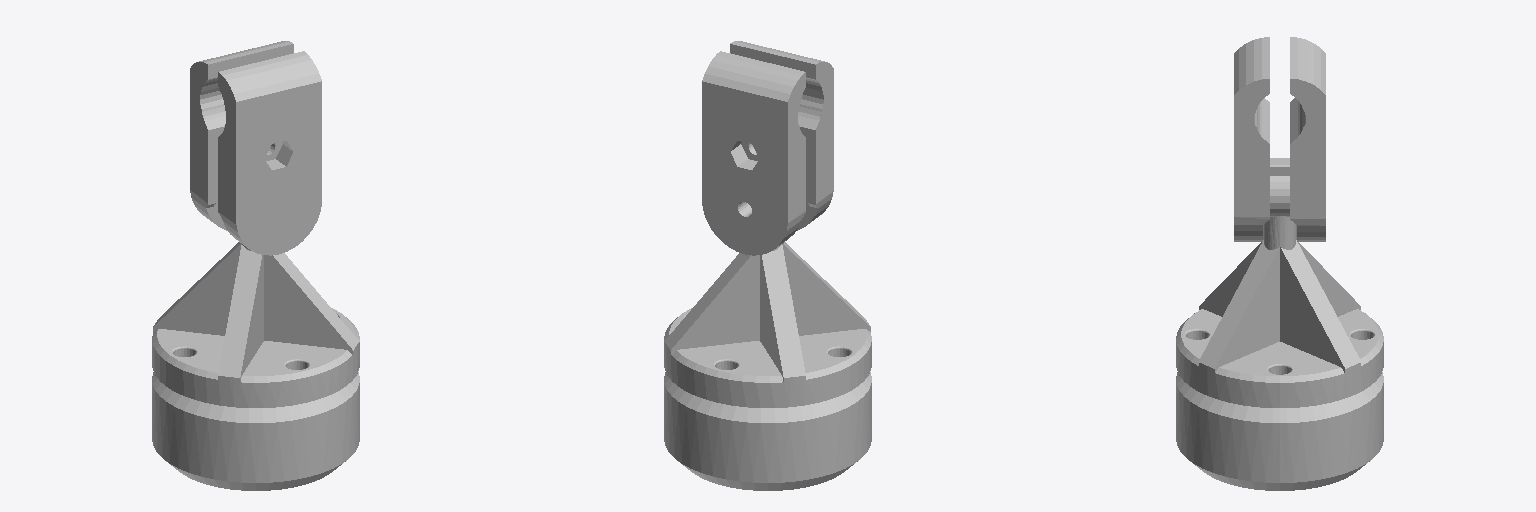
The model's file is jiajv.obj.
The picture shows the model from 3 angles: view 1: azimuth 30°, elevation 25°; view 2: azimuth 150°, elevation 25°; view 3: azimuth 270°, elevation 25°; orthographic projection.
Visible parts, largest first — view 1: Jiajv; view 2: Jiajv; view 3: Jiajv.
Boxes of the visible parts, box(x1,y1,x2,y2) form: Jiajv: box(152, 41, 359, 490); Jiajv: box(664, 41, 871, 490); Jiajv: box(1176, 37, 1383, 490).
Bounding box in the file's own units: 63 × 132 × 63.